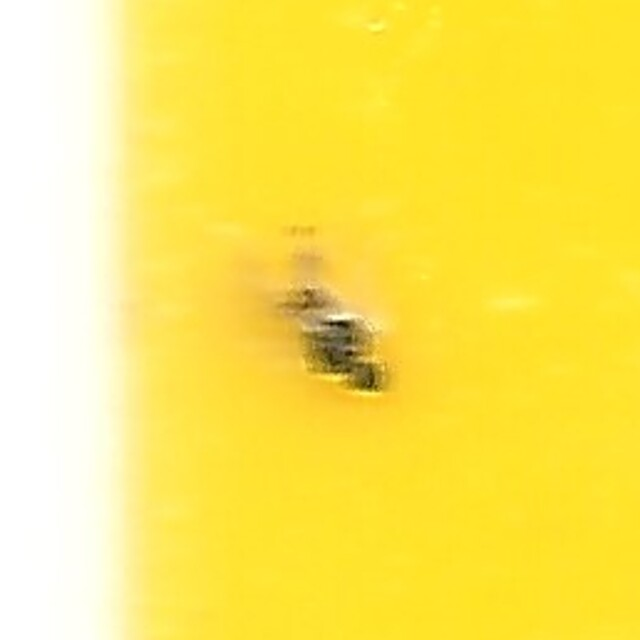Brachycera: (248, 241, 392, 399)
